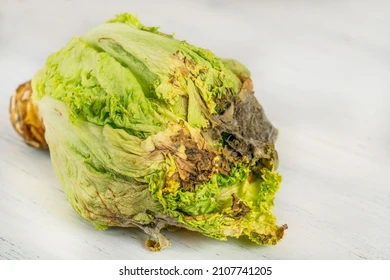lettuce rotten: (15, 5, 291, 243)
